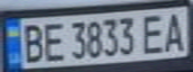3: (118, 14, 142, 57), (66, 18, 87, 61), (103, 16, 121, 57)
8: (84, 17, 106, 59)
A: (160, 9, 190, 54)
B: (18, 20, 48, 64)
E: (139, 11, 169, 55), (39, 19, 66, 63)
